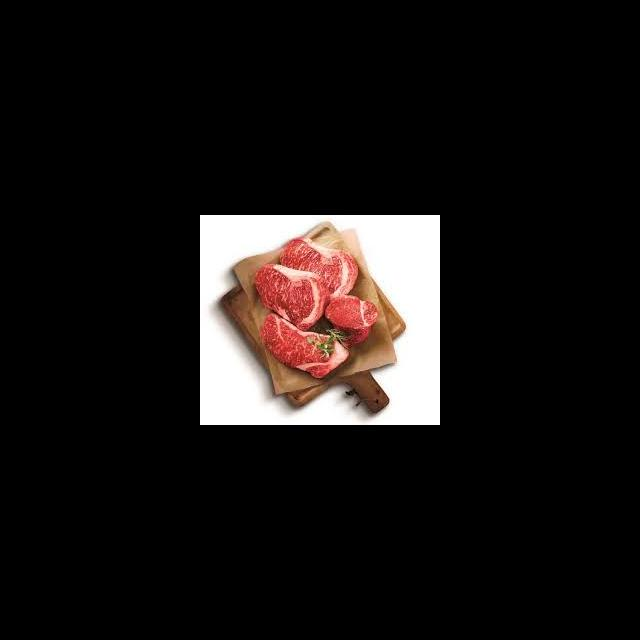beef: (263, 312, 348, 378), (256, 263, 327, 330), (328, 293, 379, 331)
